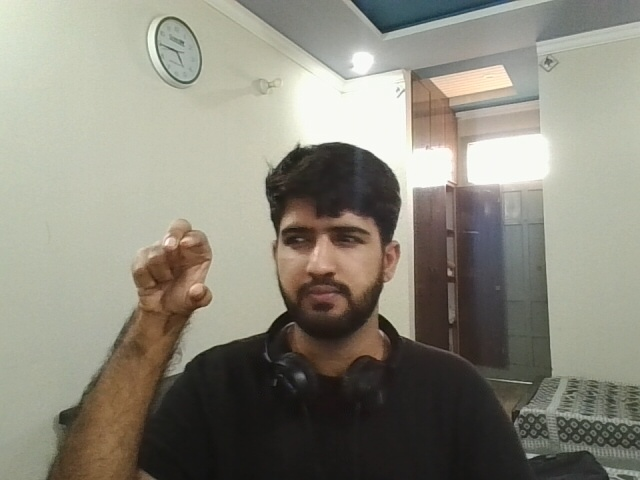No: (109, 198, 239, 335)
